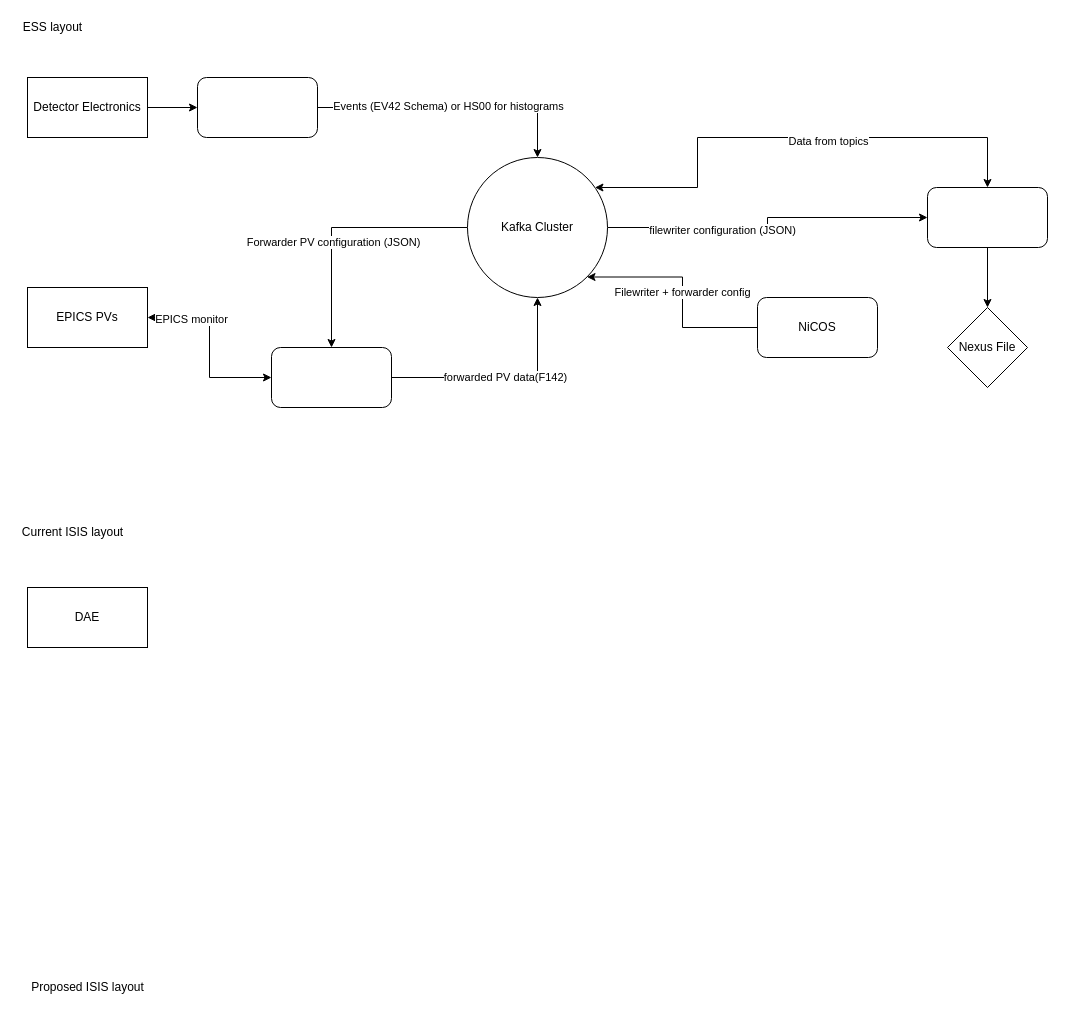
Some shapes in this 1065 by 1014 pixel diagram are drawn without their labels. Here are the shapes that lost their labels. From the top down, the centre of each, then its label:
[257,107]: Event Formation Unit
[987,217]: Filewriter (kafka-to-nexus)
[331,377]: Forwarder (forward-epics-to-kafka)
